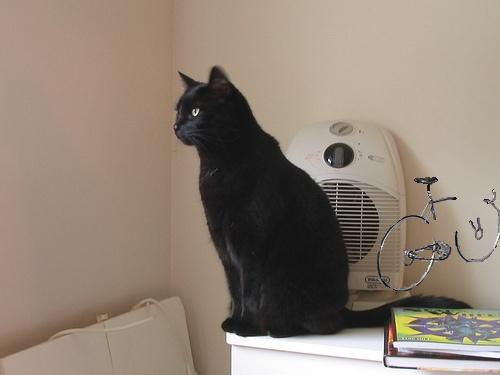tampered: (377, 178, 500, 291)
